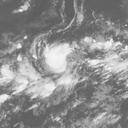cyclone: (41, 44, 70, 76)
